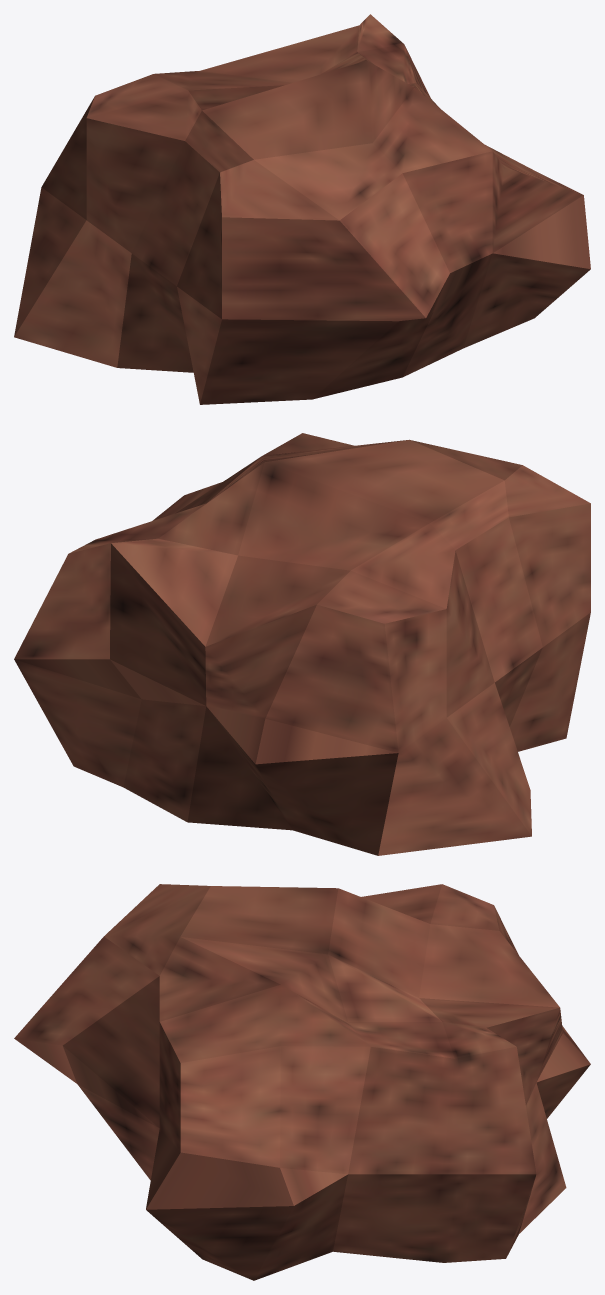
File: clay.glb
The picture shows the model from 3 angles, top to bottom: view 1: azimuth 30°, elevation 25°; view 2: azimuth 150°, elevation 25°; view 3: azimuth 270°, elevation 25°; orthographic projection. The views are drawn at different scales.
Visible parts, largest first — view 1: Cube.001; view 2: Cube.001; view 3: Cube.001.
Boxes of the visible parts, x1=… form: Cube.001: x1=14, y1=14, x2=590, y2=404; Cube.001: x1=14, y1=433, x2=590, y2=855; Cube.001: x1=14, y1=884, x2=590, y2=1280.
Bounding box in the file's own units: 0.5 × 0.25 × 0.5.
1 material, 1 textured.
